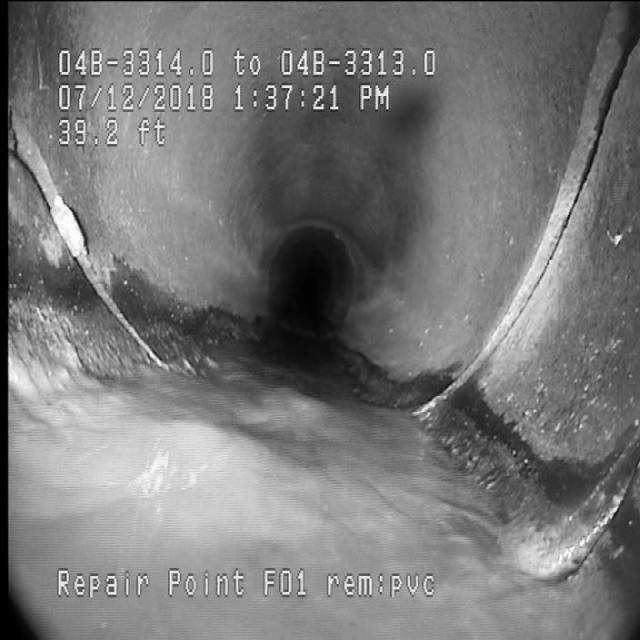Fracture: (24, 162, 142, 378)
